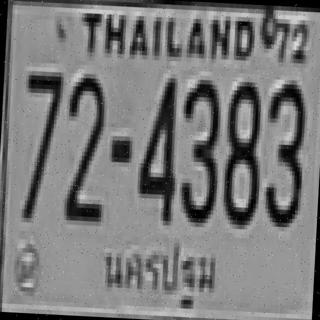N02: (61, 71, 106, 220)
N03: (261, 79, 306, 224), (177, 77, 222, 221)
N04: (136, 73, 178, 221)
N07: (19, 66, 62, 220)
N08: (220, 79, 262, 224)
P28: (97, 230, 222, 318)
